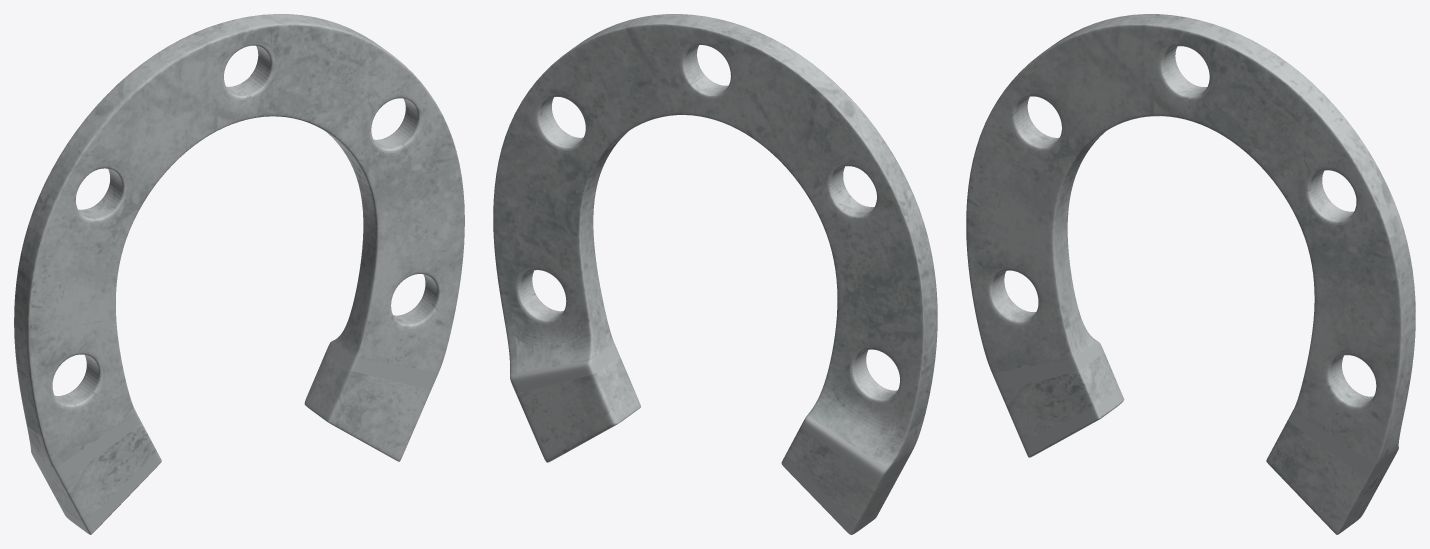
Rendered from Подкова 1.fbx.
3 views of the same model, side by side, from view 1: azimuth 30°, elevation 25°; view 2: azimuth 150°, elevation 25°; view 3: azimuth 330°, elevation 25° (orthographic).
Parts seen in each view (by area): view 1: Plane; view 2: Plane; view 3: Plane.
Boxes of the visible parts, <box> form: Plane: <box>14,14,464,534</box>; Plane: <box>493,14,937,534</box>; Plane: <box>966,14,1415,534</box>.
Bounding box in the file's own units: 10.97 × 11.26 × 1.17.
Materials: 1 (1 with a texture image).
